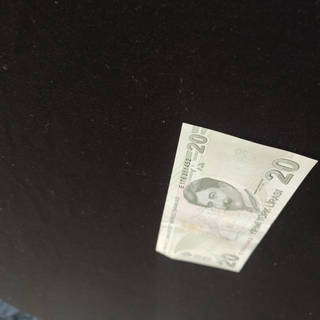20TLBack: (154, 122, 318, 274)
